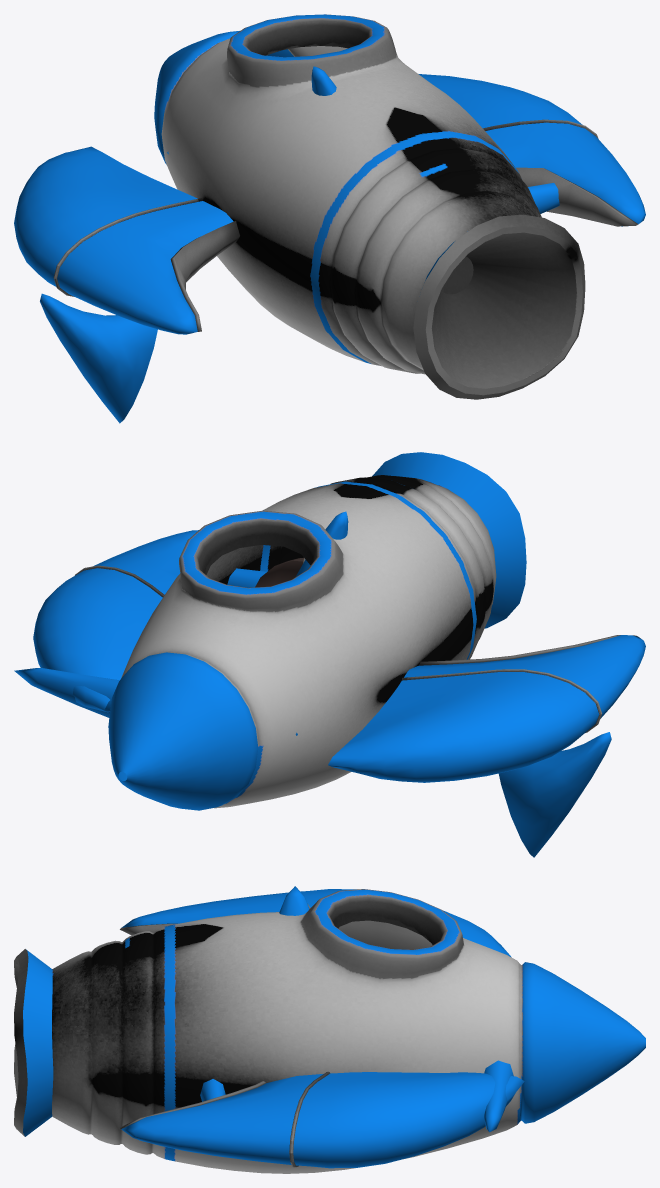
Rendered from SparkySurfaces.glb.
3 renders of one model, top to bottom at view 1: azimuth 30°, elevation 25°; view 2: azimuth 150°, elevation 25°; view 3: azimuth 270°, elevation 25°, orthographic. The views are drawn at different scales.
Visible parts, largest first — view 1: body, wing_1, wing_2, wing_down, line, wing_3; view 2: body, wing_1, wing_2, wing_3, line, wing_down, glass; view 3: body, wing_1, wing_3, wing_down, wing_2, line.
Boxes of the visible parts, x1,y1,x2,y2 form: body: [154, 14, 585, 399]; wing_1: [14, 74, 645, 334]; wing_2: [40, 66, 336, 423]; wing_down: [170, 167, 638, 331]; line: [53, 119, 598, 296]; wing_3: [167, 151, 559, 213]; body: [108, 452, 526, 810]; wing_1: [33, 530, 645, 782]; wing_2: [296, 511, 611, 857]; wing_3: [14, 568, 297, 735]; line: [75, 565, 602, 732]; wing_down: [419, 635, 638, 665]; glass: [255, 557, 303, 587]; body: [14, 889, 645, 1173]; wing_1: [121, 889, 524, 1168]; wing_3: [200, 1060, 513, 1132]; wing_down: [120, 923, 266, 1128]; wing_2: [279, 886, 309, 915]; line: [289, 904, 330, 1167].
Bounding box in the file's own units: 2.96 × 1.58 × 3.11.
12 materials, 11 textured.
